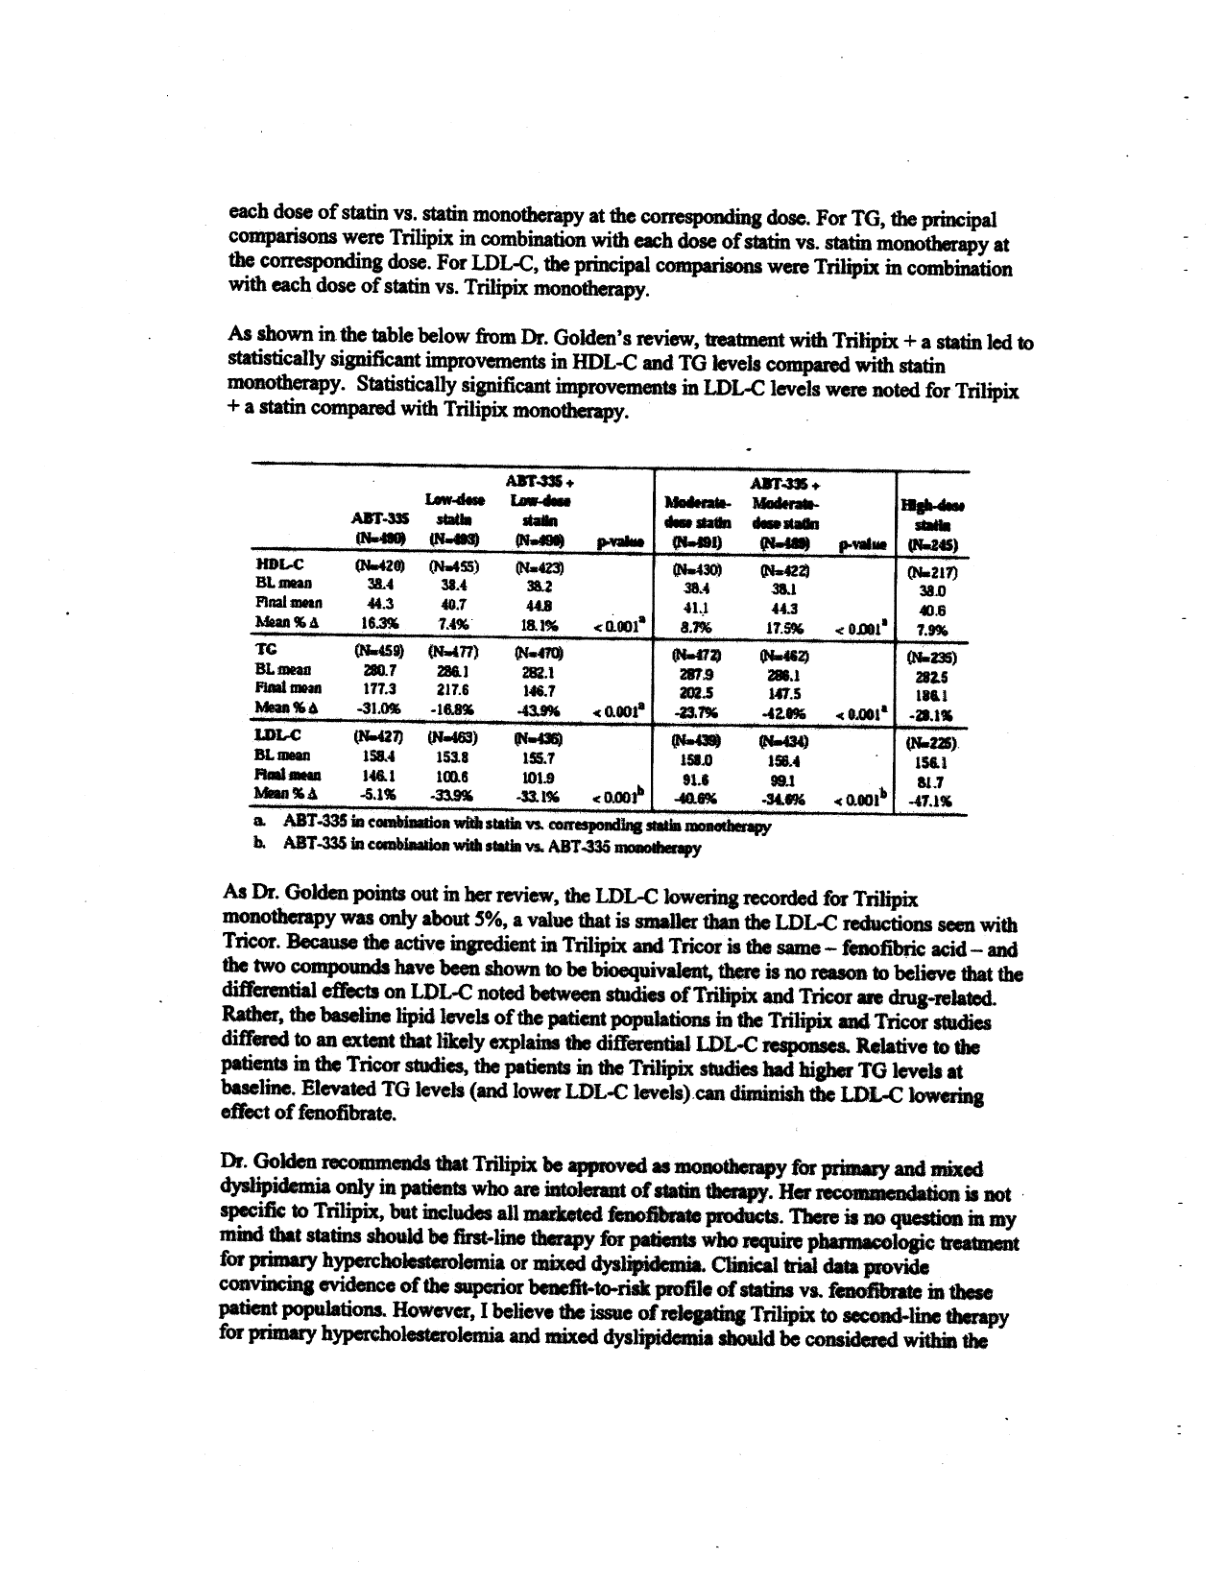partial_lined: (249, 460, 971, 818)
